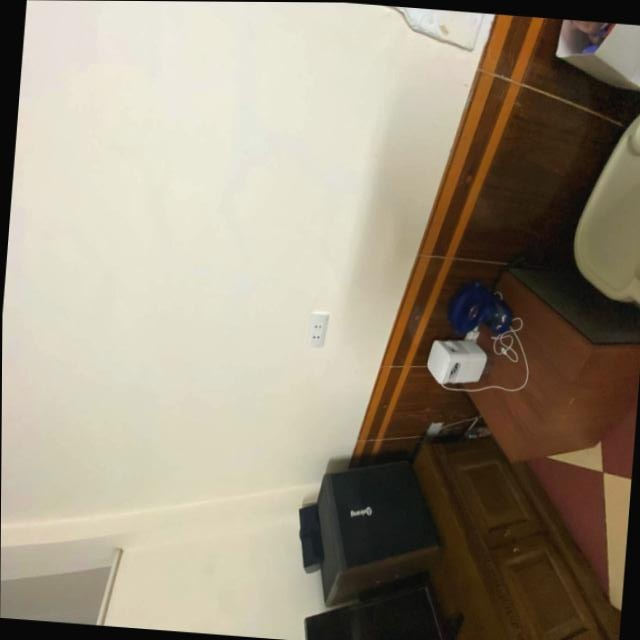outlet: (306, 313, 328, 350)
